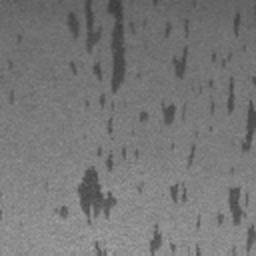Red iron sheet: (60, 0, 159, 224), (138, 19, 256, 151), (151, 186, 256, 256), (170, 184, 187, 202), (8, 58, 14, 104), (233, 10, 242, 37), (187, 145, 197, 169), (95, 241, 108, 256)
